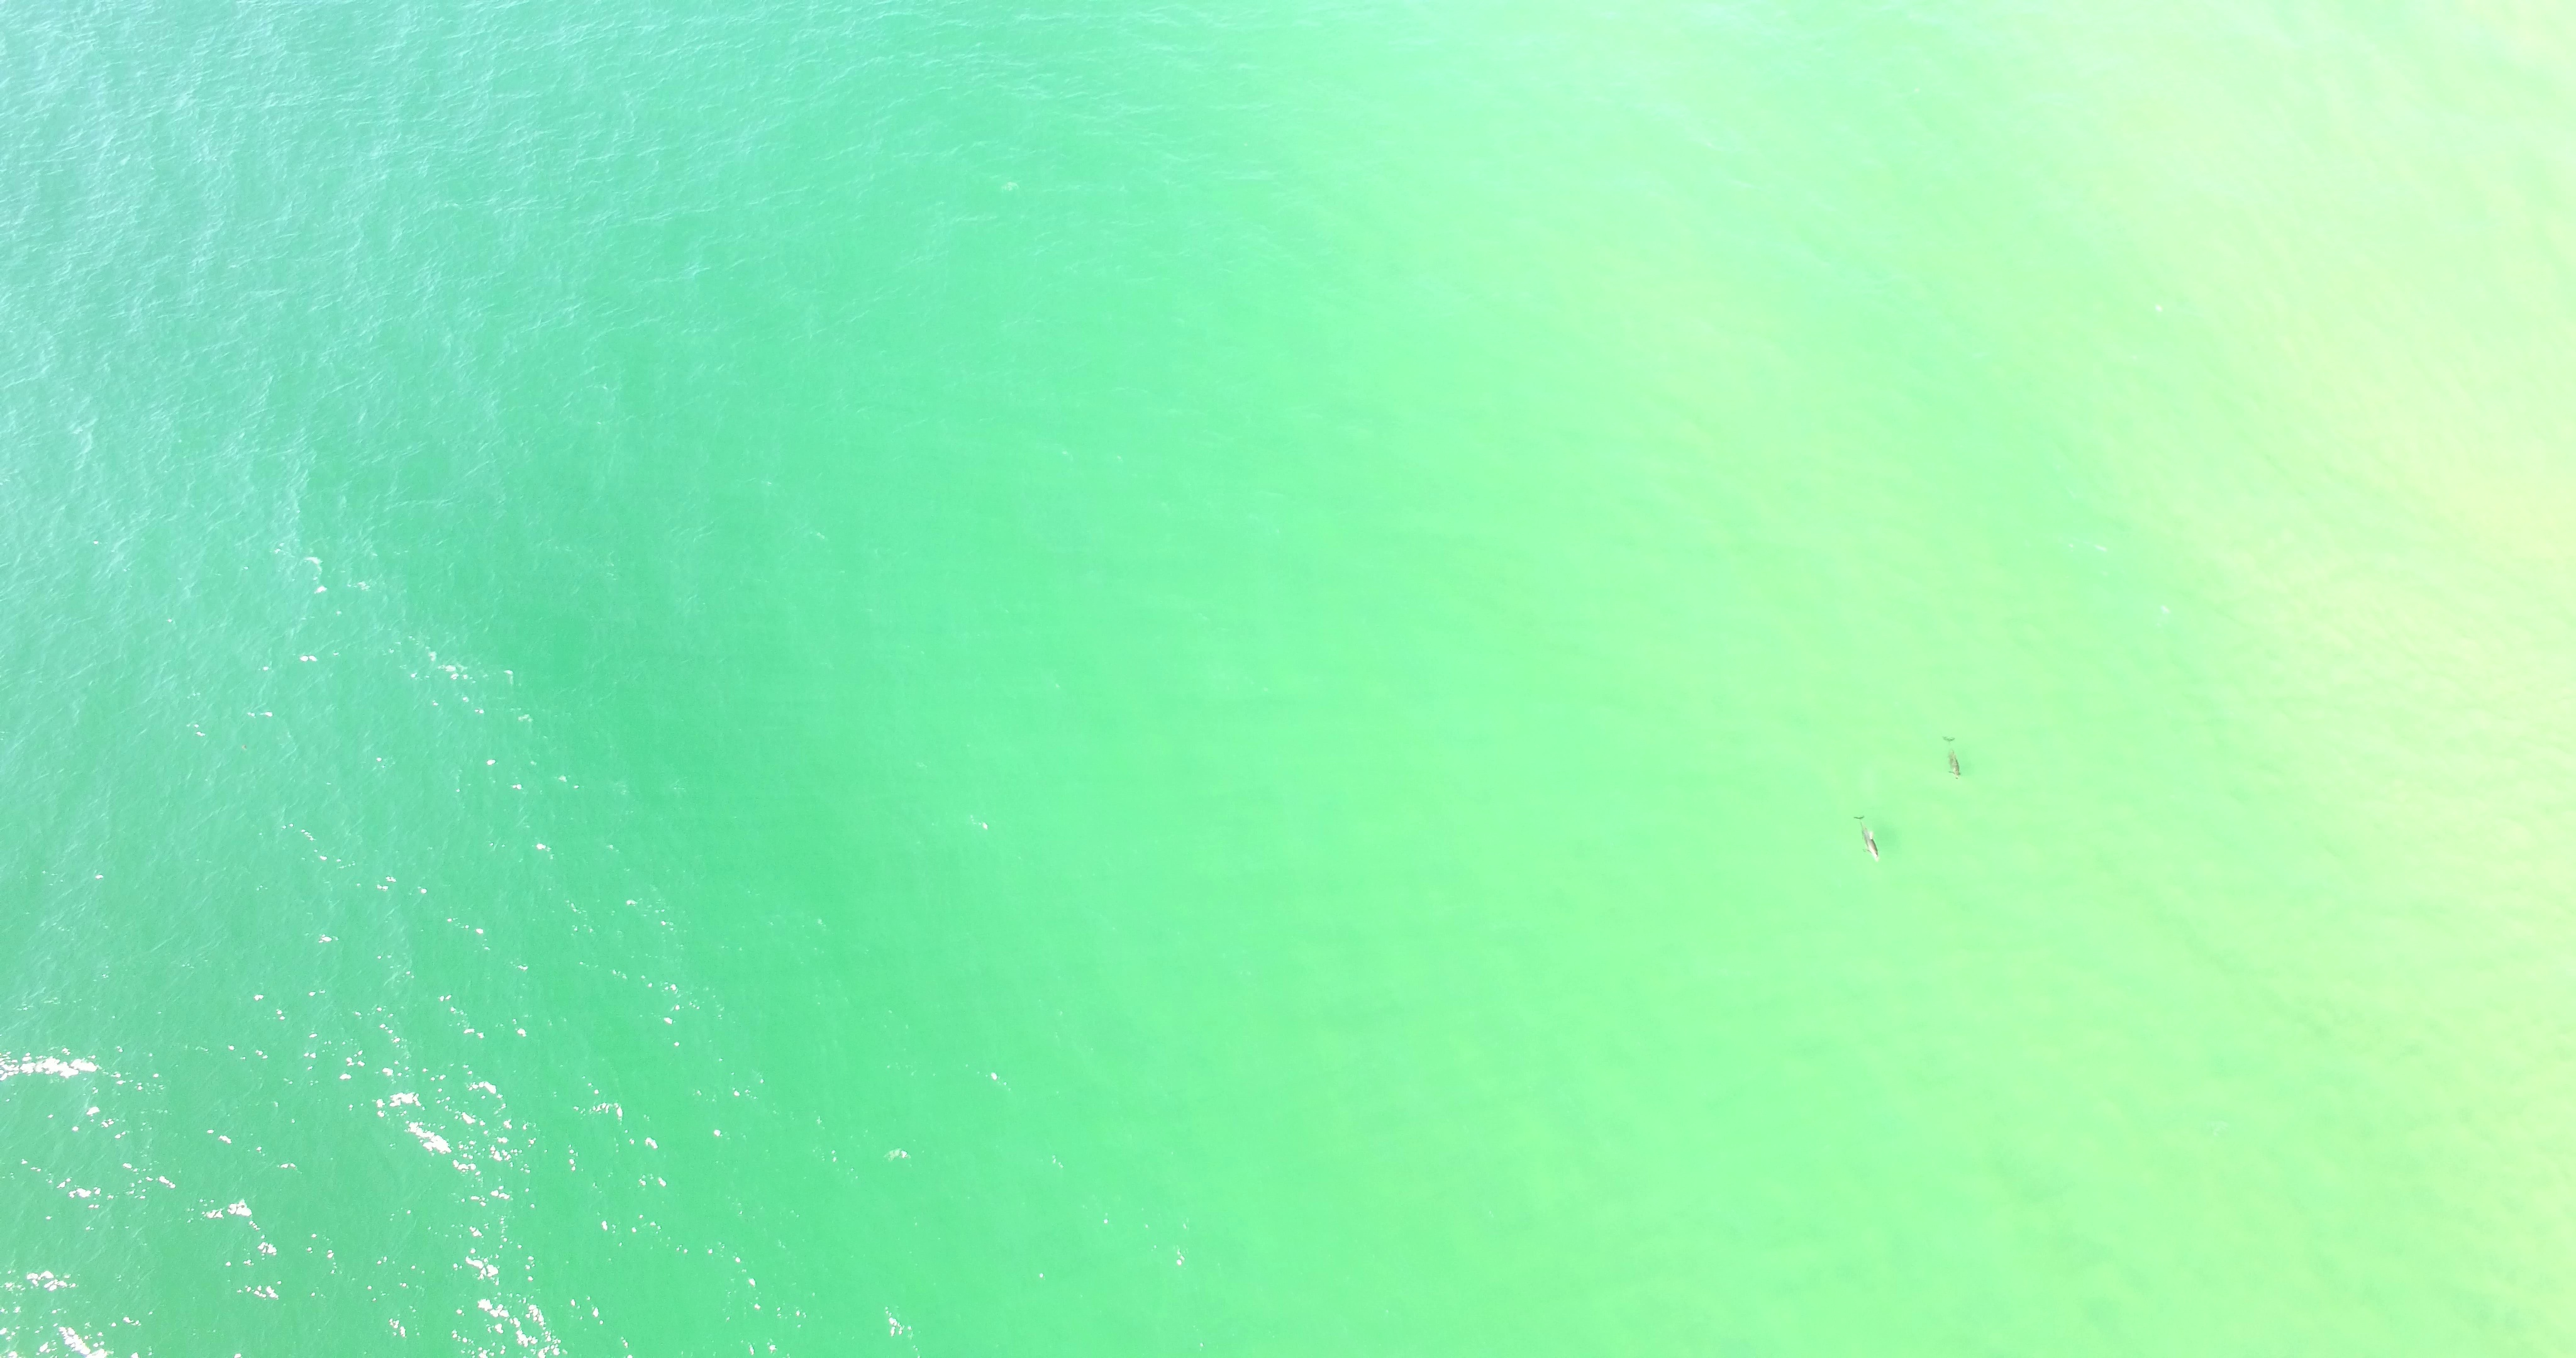dolphin: (1854, 814, 1884, 866), (1939, 734, 1964, 782)
